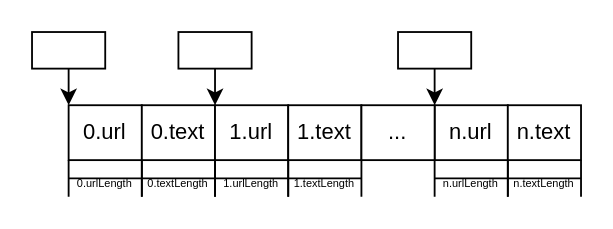
This 613x229 diagram has some shape labels left out. The shapes that lost their labels are listed below. From the top down, each one's box as (x1, y1, x2, y2) in pixels, then its label:
(30, 30, 105, 69): 0.offset
(177, 30, 252, 69): 1.offset
(396, 30, 471, 69): n.offset
